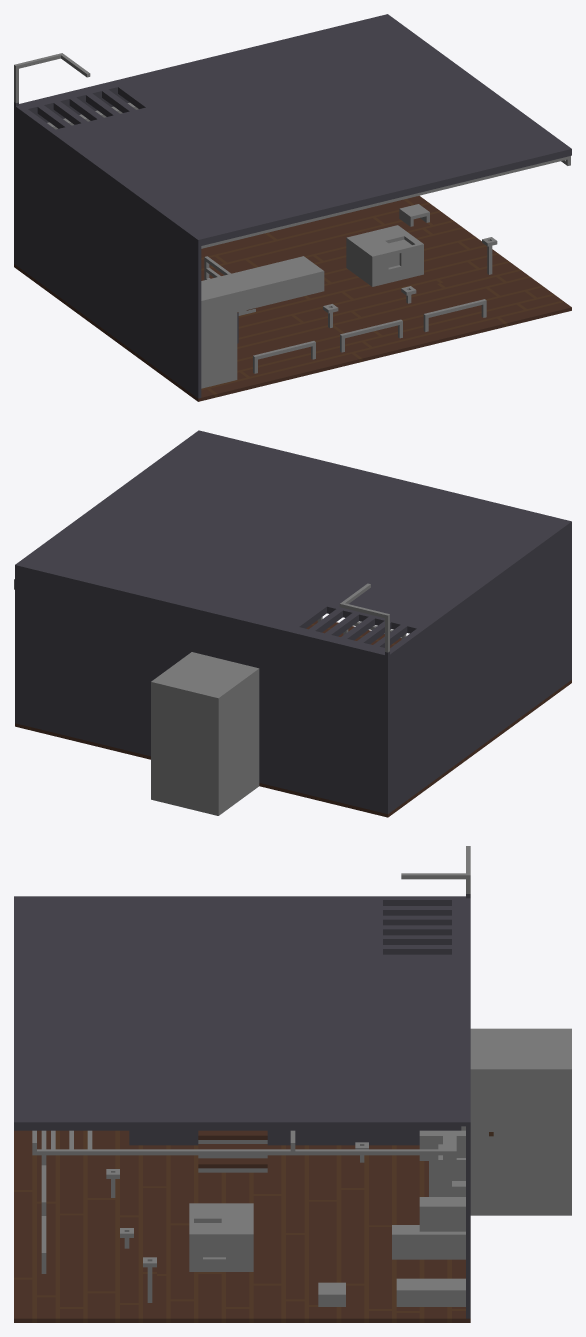
The model's file is room.obj.
3 views of the same model, one above another, from view 1: azimuth 30°, elevation 25°; view 2: azimuth 150°, elevation 25°; view 3: azimuth 270°, elevation 25° (orthographic). The views are drawn at different scales.
Size of the model in its own units: 11.8 by 6 by 12.1.
1 material, 1 textured.
